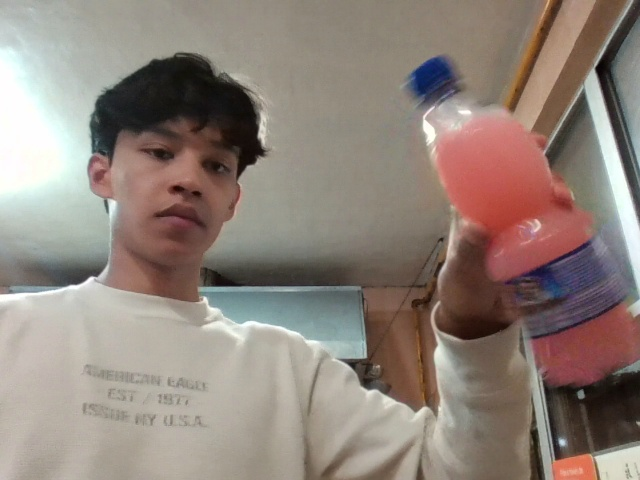botella: (371, 13, 640, 440)
